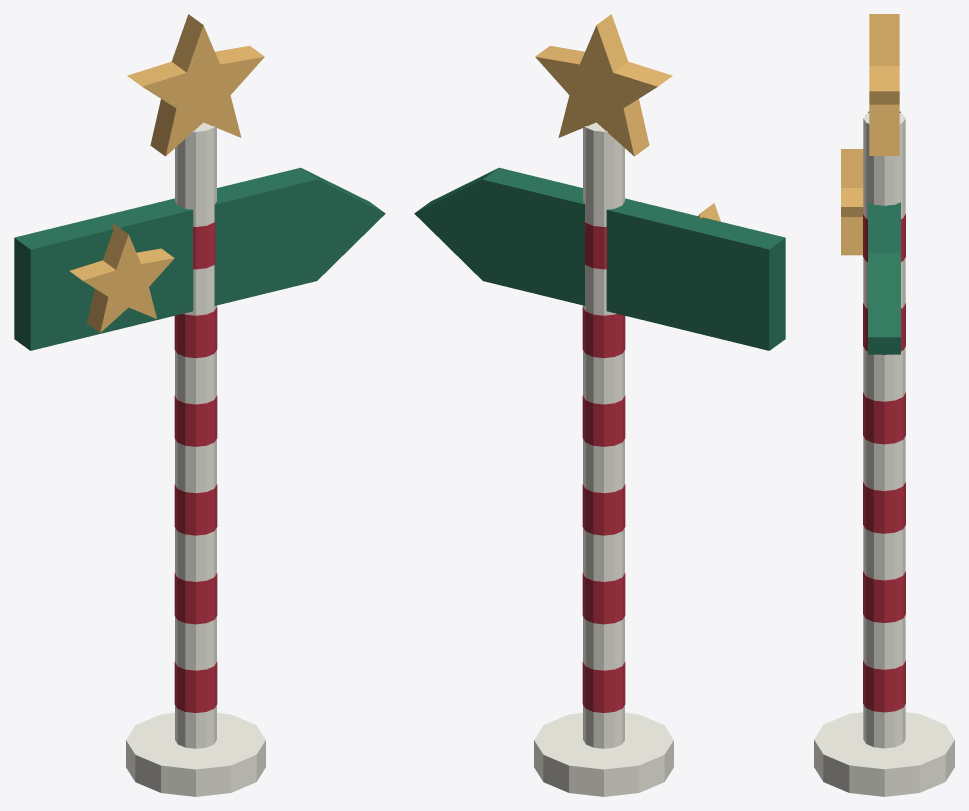
File: three-d-christmas-village-christmas-village-north-pole-sign-f4aa9a0b.glb
3 views of the same model, side by side, from view 1: azimuth 30°, elevation 25°; view 2: azimuth 150°, elevation 25°; view 3: azimuth 270°, elevation 25° (orthographic).
Parts seen in each view (by area): view 1: north-pole-sign; view 2: north-pole-sign; view 3: north-pole-sign.
Part boxes in pixels (bbox=[...]): north-pole-sign: bbox=[14, 14, 385, 796]; north-pole-sign: bbox=[414, 14, 785, 796]; north-pole-sign: bbox=[814, 14, 954, 796].
Bounding box in the file's own units: 0.88 × 1.77 × 0.3.
